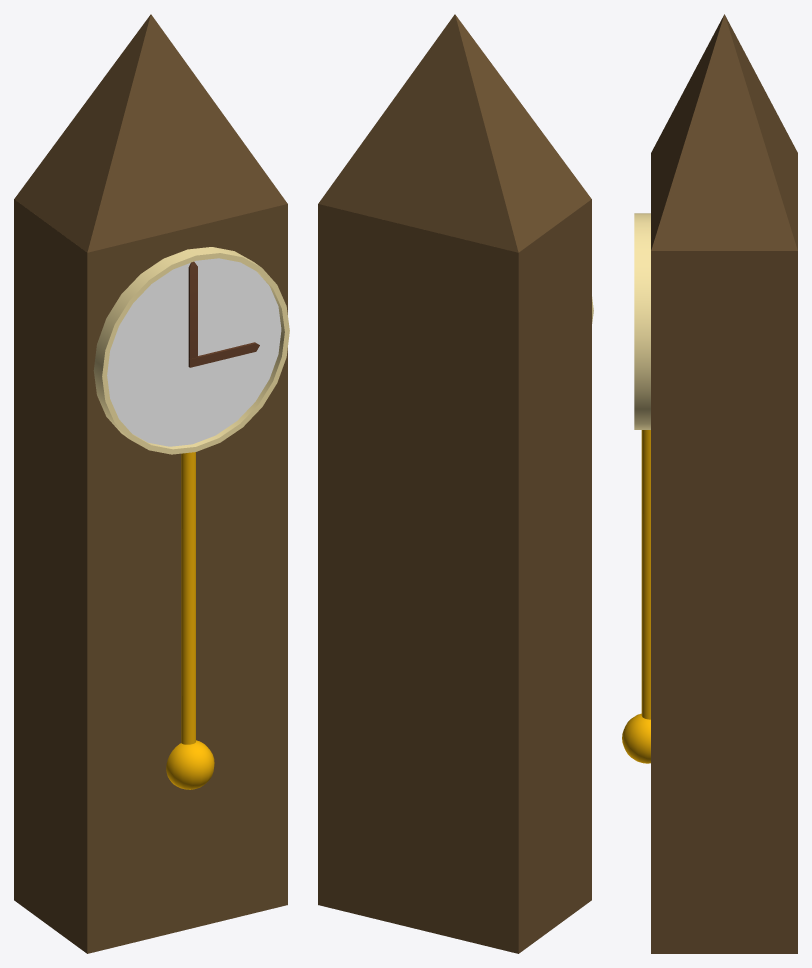
File: 3clock.fbx
The picture shows the model from 3 angles, left to right: view 1: azimuth 30°, elevation 25°; view 2: azimuth 150°, elevation 25°; view 3: azimuth 270°, elevation 25°; orthographic projection.
Parts seen in each view (by area): view 1: 3clock; view 2: 3clock; view 3: 3clock.
Part boxes in pixels (<box>): 3clock: <box>14,14,289,953</box>; 3clock: <box>318,14,593,953</box>; 3clock: <box>622,14,797,953</box>.
Size of the model in its own units: 20.37 by 86.25 by 15.44.
